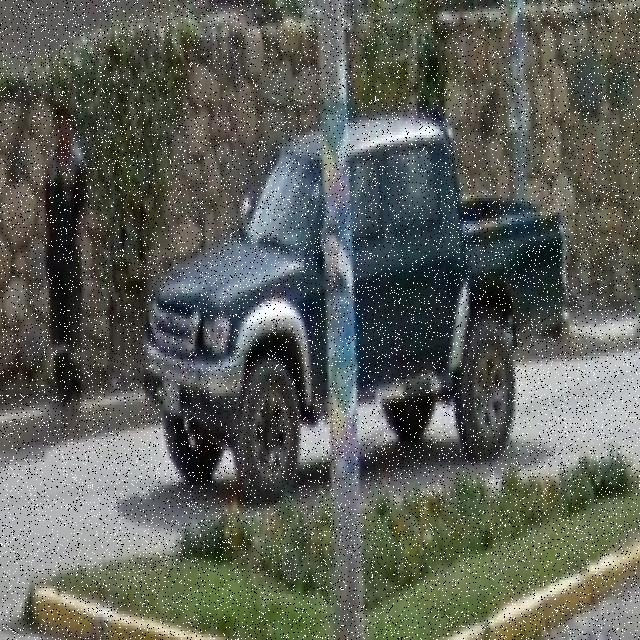cars: (147, 115, 567, 486)
